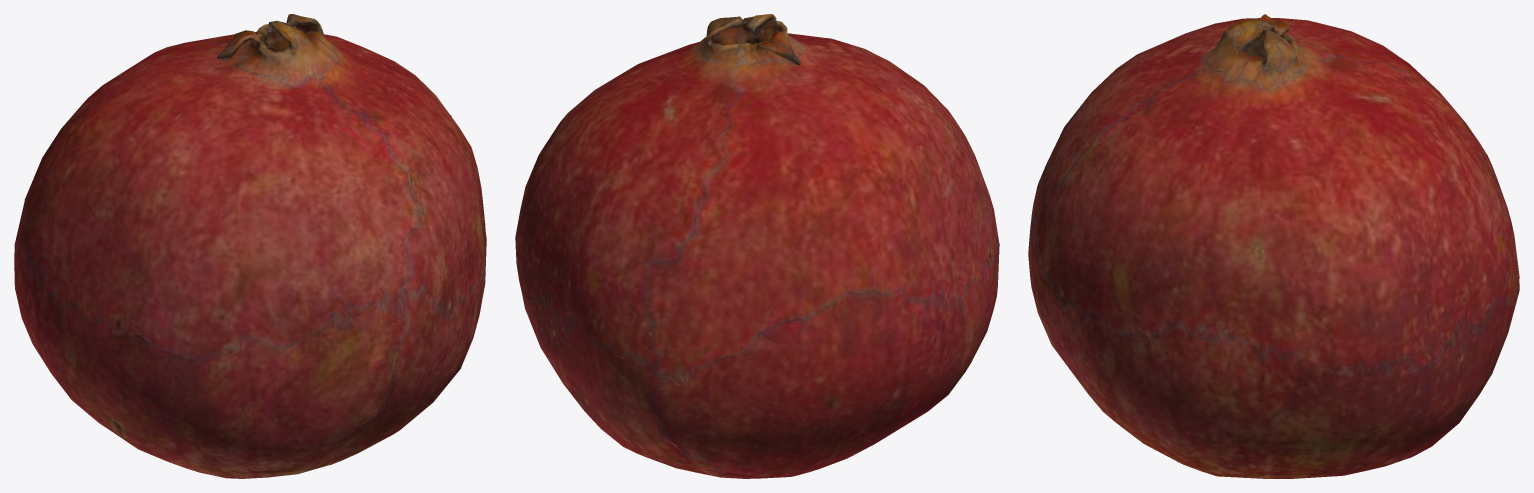
File: runtime.glb
The picture shows the model from 3 angles, left to right: view 1: azimuth 30°, elevation 25°; view 2: azimuth 150°, elevation 25°; view 3: azimuth 270°, elevation 25°; orthographic projection. The views are drawn at different scales.
Parts seen in each view (by area): view 1: food_pomegranate_01; view 2: food_pomegranate_01; view 3: food_pomegranate_01.
Part boxes in pixels (x1=…): food_pomegranate_01: x1=14, y1=14, x2=486, y2=478; food_pomegranate_01: x1=515, y1=14, x2=999, y2=478; food_pomegranate_01: x1=1028, y1=14, x2=1519, y2=478.
Bounding box in the file's own units: 0.1144 × 0.115 × 0.1156.
Materials: 1 (1 with a texture image).
